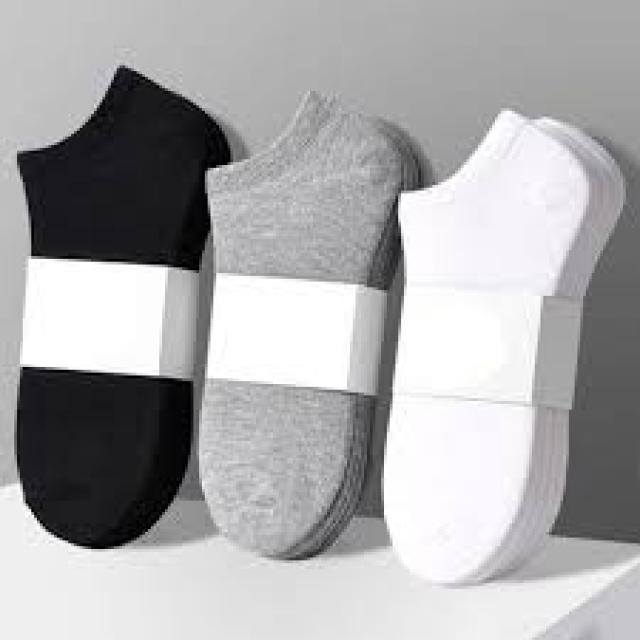sock: (378, 105, 626, 586), (194, 89, 426, 560), (12, 63, 230, 549)
